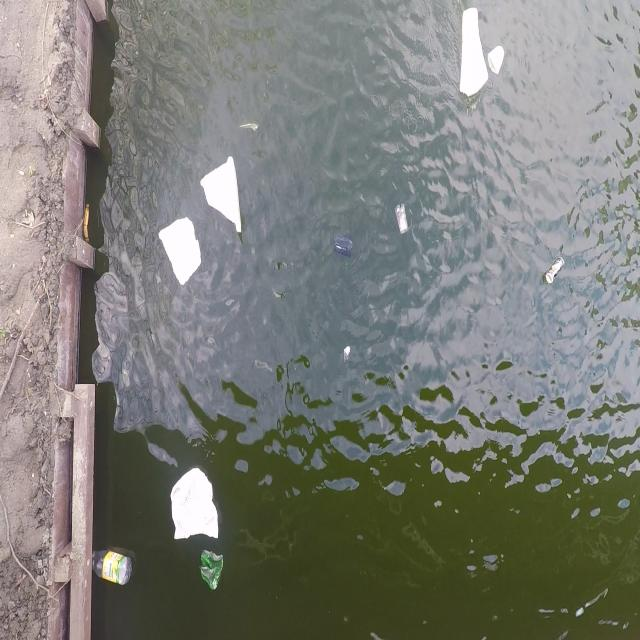Autre plastique: (196, 150, 245, 247), (165, 465, 223, 546), (153, 210, 205, 298), (456, 2, 487, 100)
Bouteille plastique: (90, 538, 139, 588)
Non plastique: (543, 250, 567, 286), (484, 42, 506, 78)
Sac plastique: (195, 546, 226, 596)
